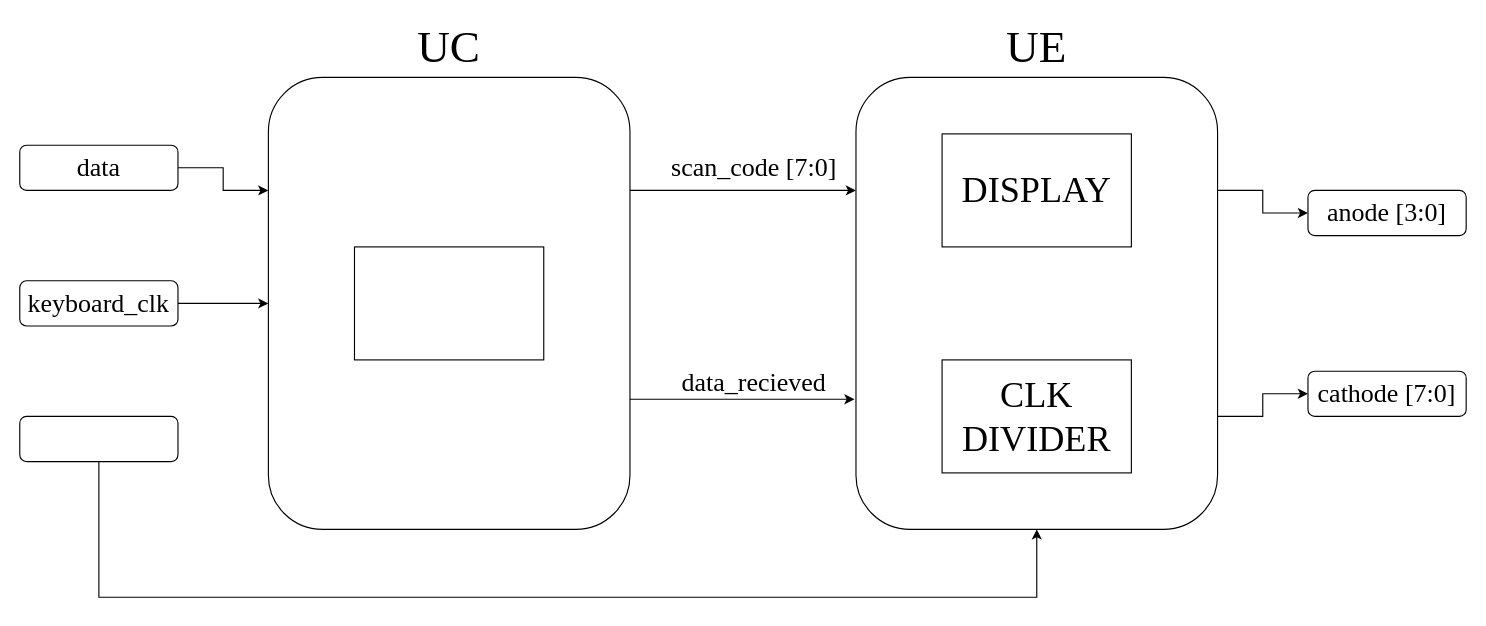
The diagram is 1486 pixels wide and 626 high, and some of its shapes have lost their labels. Each missing label, with the centre of its shape:
"fpga_clk" belongs at (98,438).
"RECIEVER" belongs at (448,303).
